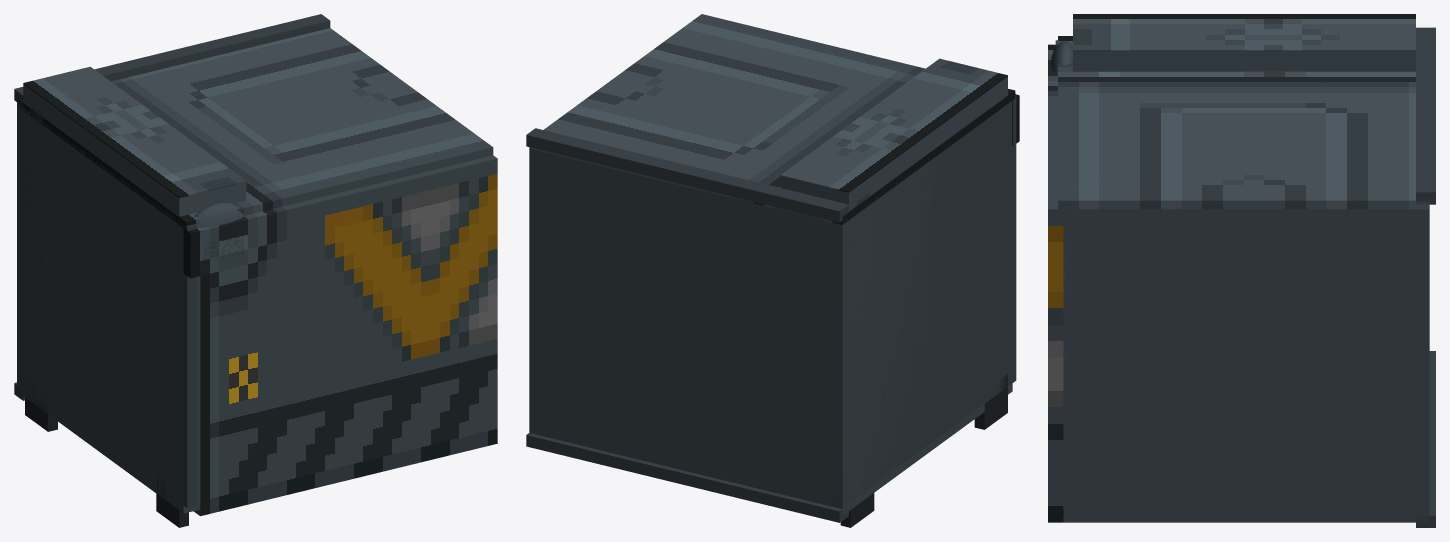
File: CMU3DFreightAU14ContainerTartarusLeftOffBlueWY.glb
The picture shows the model from 3 angles, left to right: view 1: azimuth 30°, elevation 25°; view 2: azimuth 150°, elevation 25°; view 3: azimuth 270°, elevation 25°; orthographic projection. The views are drawn at different scales.
Visible parts, largest first — view 1: painted front panel, closed cargo shell, source-painted lid, source-painted locking strap, outer end wall, outer lid strap, rear horizontal frame, corner lifting foot (×2), corner frame upright, rounded strap end; view 2: closed cargo shell, outer end wall, source-painted lid, rear horizontal frame (×2), source-painted locking strap, outer lid strap, corner lifting foot; view 3: closed cargo shell, source-painted lid, source-painted locking strap, outer lid strap, painted front panel, rear horizontal frame (×2), rounded strap end.
Part boxes in pixels (x1,y1,x2,y2): painted front panel: (183, 155, 497, 516); closed cargo shell: (17, 108, 200, 513); source-painted lid: (17, 28, 493, 229); source-painted locking strap: (23, 66, 246, 197); outer end wall: (17, 103, 196, 507); outer lid strap: (23, 84, 246, 216); rear horizontal frame: (14, 14, 330, 106); corner lifting foot (×2): (25, 379, 188, 527); corner frame upright: (30, 104, 42, 385); rounded strap end: (194, 202, 243, 227); closed cargo shell: (529, 147, 1012, 515); outer end wall: (832, 93, 1016, 507); source-painted lid: (529, 14, 1015, 224); rear horizontal frame (×2): (526, 128, 848, 522); source-painted locking strap: (780, 58, 1007, 192); outer lid strap: (780, 76, 1007, 211); corner lifting foot: (974, 374, 1007, 429); closed cargo shell: (1063, 209, 1429, 522); source-painted lid: (1058, 36, 1429, 209); source-painted locking strap: (1073, 14, 1415, 50); outer lid strap: (1073, 51, 1415, 71); painted front panel: (1048, 44, 1064, 522); rear horizontal frame (×2): (1416, 27, 1435, 527); rounded strap end: (1050, 40, 1072, 75).
Size of the model in its own units: 1 by 1.03 by 0.995.
10 materials, 3 textured.
